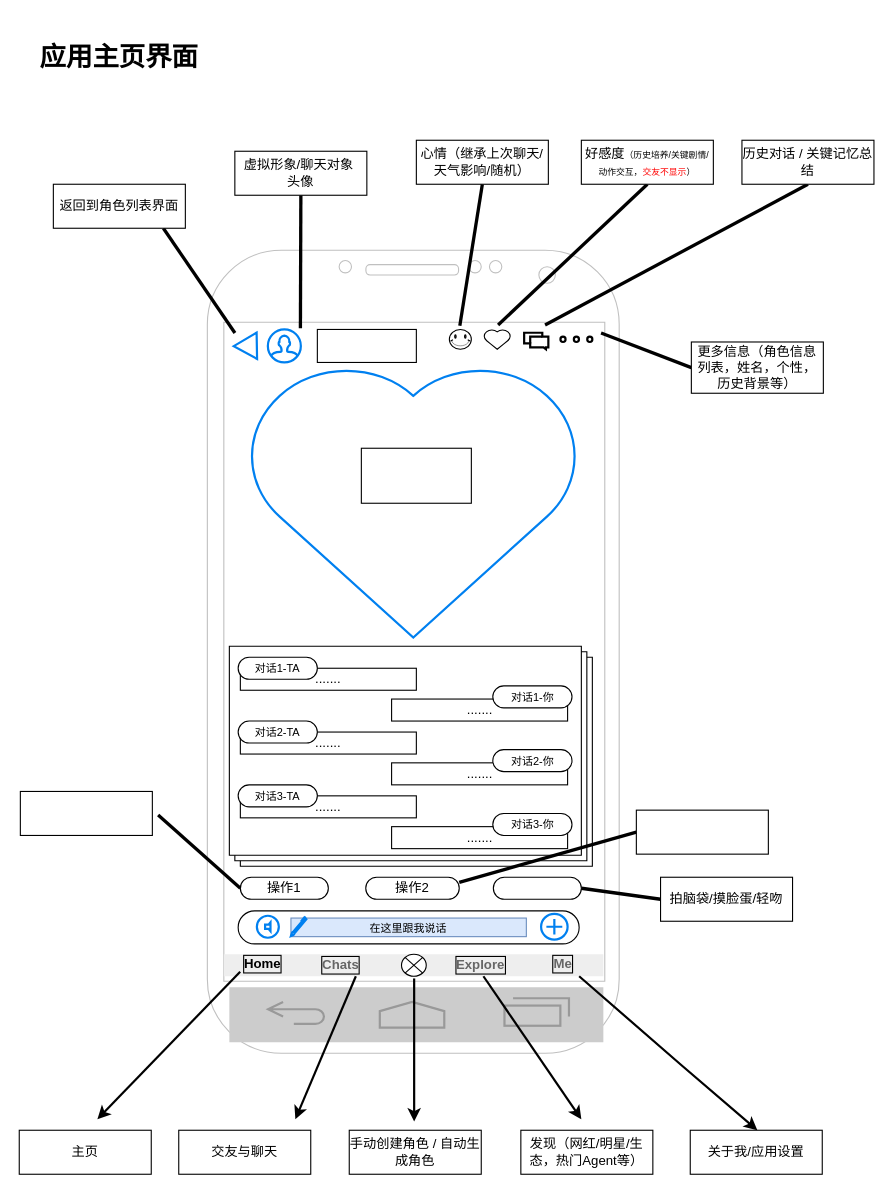
The diagram is 893 pixels wide and 1194 high, and some of its shapes have lost their labels. Each missing label, with the centre of its shape:
"我的野蛮女友" belongs at (366,345).
"操作3" belongs at (536,887).
"虚拟形象展示处（2.5D动图）" belongs at (415,475).
"送礼物/夸赞/表扬" belongs at (701,831).
"问候/打招呼/关怀" belongs at (85,812).
